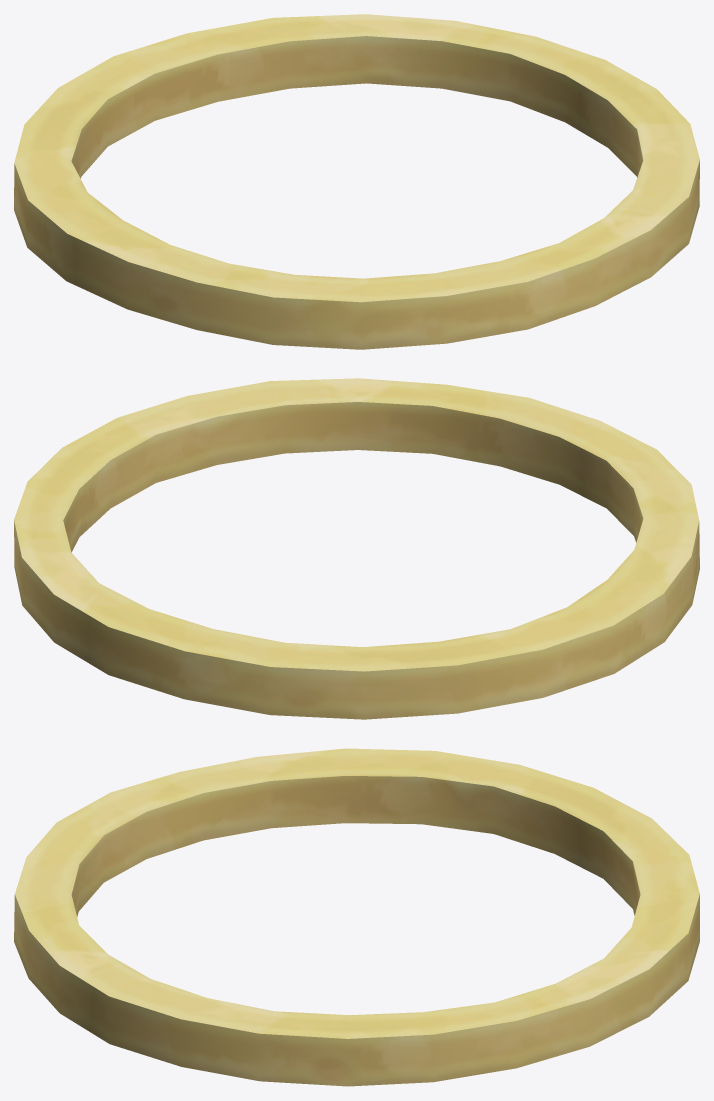
Rendered from SM_OnionARingB.glb.
3 views of the same model, one above another, from view 1: azimuth 30°, elevation 25°; view 2: azimuth 150°, elevation 25°; view 3: azimuth 270°, elevation 25° (orthographic).
Visible parts, largest first — view 1: SM_OnionARingB; view 2: SM_OnionARingB; view 3: SM_OnionARingB.
Part boxes in pixels (<box>): SM_OnionARingB: <box>14,14,699,349</box>; SM_OnionARingB: <box>14,378,699,719</box>; SM_OnionARingB: <box>14,748,699,1086</box>.
Bounding box in the file's own units: 0.1166 × 0.00891 × 0.1162.
1 material, 1 textured.
